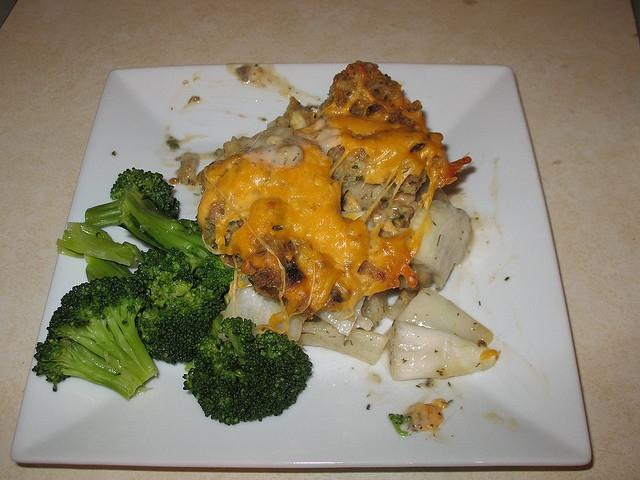broccoli: (32, 276, 158, 401), (182, 317, 313, 426), (118, 190, 225, 270), (135, 278, 230, 364), (85, 168, 180, 228), (135, 247, 208, 308), (56, 221, 146, 267), (80, 222, 112, 241)
onion: (389, 320, 496, 381), (410, 200, 472, 293), (396, 288, 494, 346), (298, 322, 390, 365), (288, 316, 302, 342), (332, 309, 354, 321)
